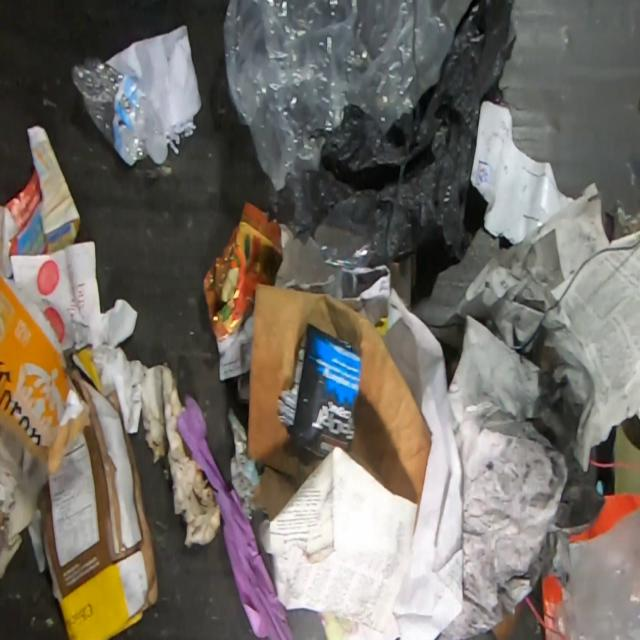cardboard: (246, 284, 431, 504), (40, 347, 159, 639), (0, 276, 91, 577), (541, 572, 564, 640)
rigid_plastic: (68, 55, 166, 167)
soft_plastic: (267, 2, 517, 307), (223, 1, 473, 197), (554, 507, 640, 639), (273, 192, 376, 295)
